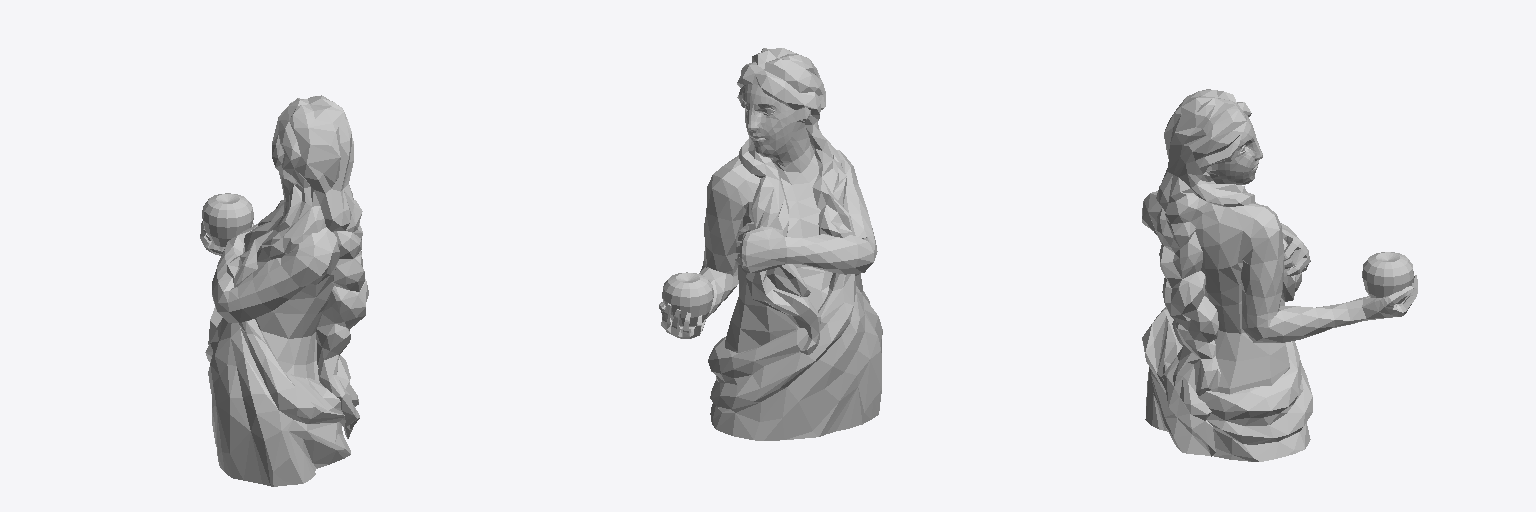
File: state01_arena.obj
The picture shows the model from 3 angles: view 1: azimuth 30°, elevation 25°; view 2: azimuth 150°, elevation 25°; view 3: azimuth 270°, elevation 25°; orthographic projection.
Visible parts, largest first — view 1: state01_arena; view 2: state01_arena; view 3: state01_arena.
Boxes of the visible parts, box(x1,y1,x2,y2) form: state01_arena: box(200, 95, 368, 486); state01_arena: box(659, 48, 882, 440); state01_arena: box(1142, 89, 1417, 461).
Size of the model in its own units: 1.62 by 3.72 by 2.68.